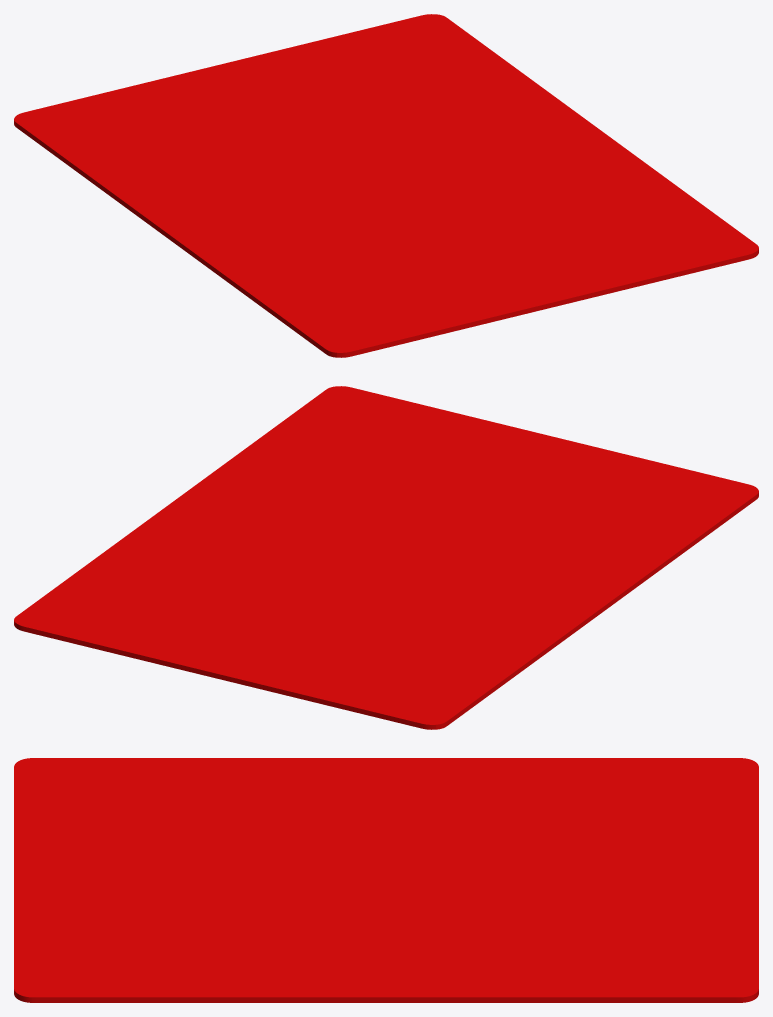
The model's file is Card.fbx.
3 renders of one model, top to bottom at view 1: azimuth 30°, elevation 25°; view 2: azimuth 150°, elevation 25°; view 3: azimuth 270°, elevation 25°, orthographic. The views are drawn at different scales.
Parts seen in each view (by area): view 1: Card; view 2: Card; view 3: Card.
Boxes of the visible parts, bbox=[...] form: Card: bbox=[14, 14, 758, 357]; Card: bbox=[14, 386, 758, 729]; Card: bbox=[14, 758, 758, 1002].
Bounding box in the file's own units: 36.8 × 0.4 × 48.4.
